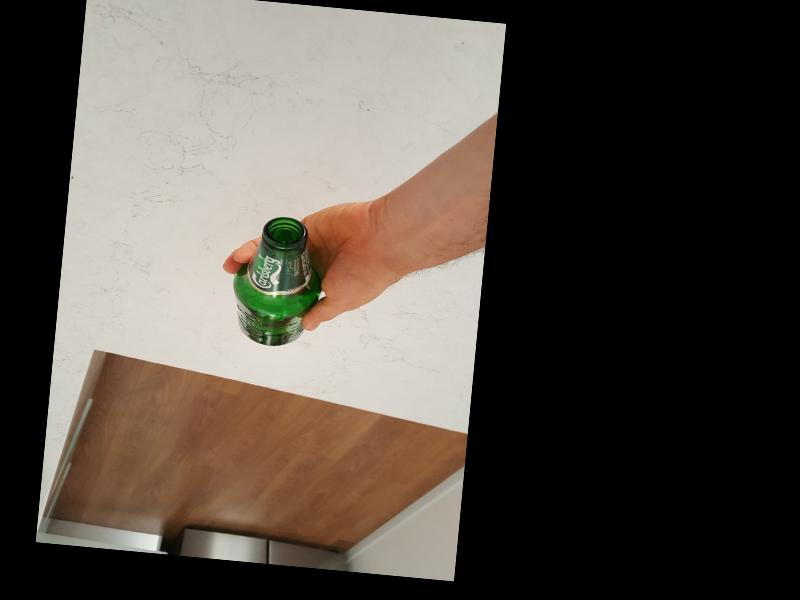Beer: (228, 212, 326, 350)
